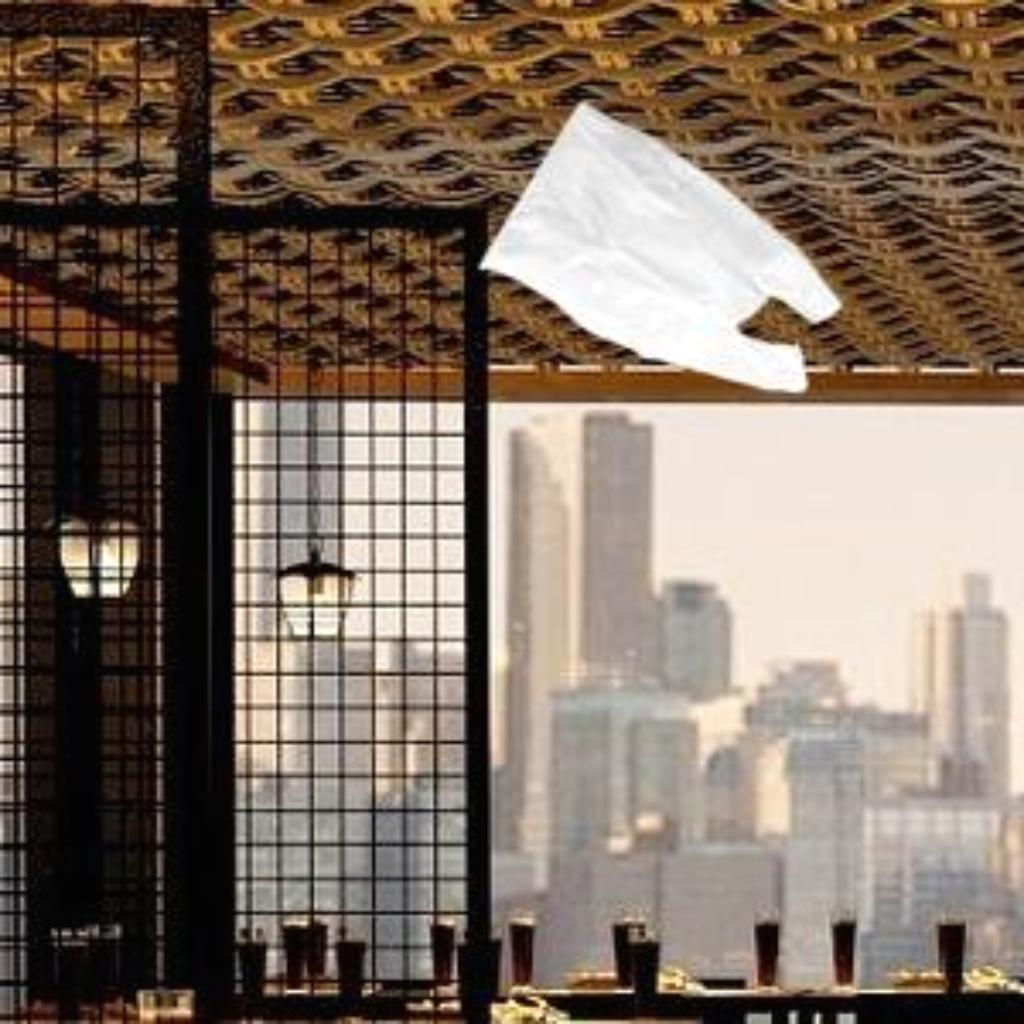garbage: (456, 89, 858, 430)
